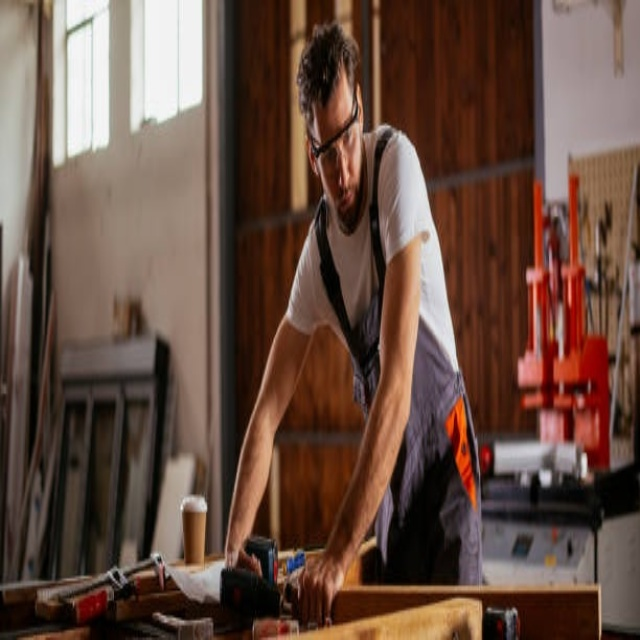Gafas: (308, 86, 361, 172)
Sin_guantes: (288, 558, 340, 630)
Sin_mascara: (334, 185, 358, 222)
